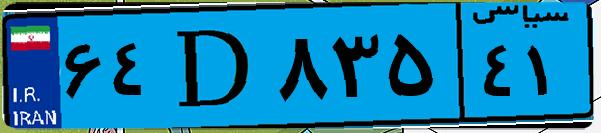1: (525, 38, 570, 115)
3: (330, 28, 385, 110)
4: (475, 38, 525, 113), (110, 28, 158, 98)
5: (385, 28, 445, 110)
6: (57, 26, 110, 100)
8: (270, 28, 330, 110)
D: (158, 12, 270, 120)
